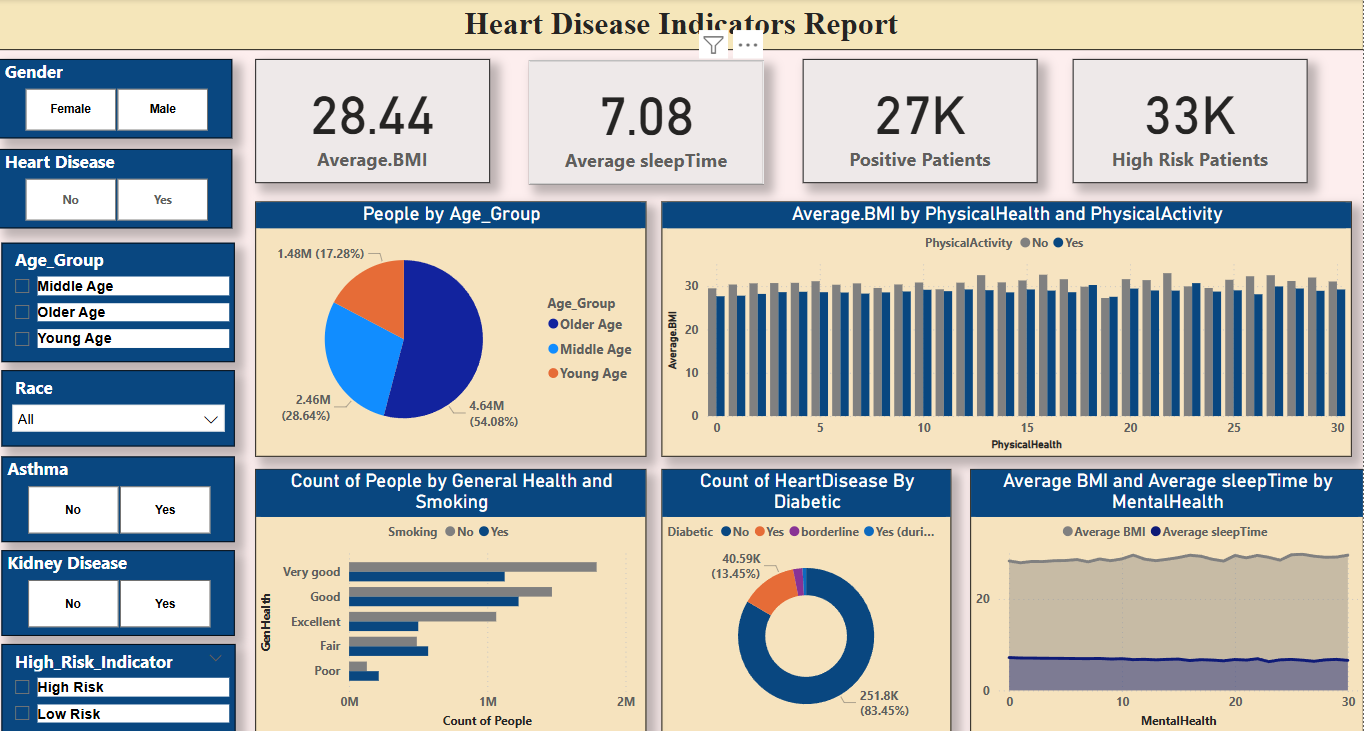

The page's visual inventory and layout, read from the dashboard file:
{"tool":"powerbi","page":{"name":"Page 1","canvas":[1390,760],"ordinal":0},"visuals":[{"type":"textbox","box":[0,0,1390.6,52.2],"z":0},{"type":"slicer","title":"Gender","fields":{"Values":["heart_disease.Sex"]},"box":[0,61.5,237.7,80.8],"z":1000},{"type":"slicer","title":"Heart Disease","fields":{"Values":["heart_disease.HeartDisease"]},"box":[0,153.2,237.7,80.8],"z":2000},{"type":"slicer","fields":{"Values":["heart_disease.Age_Group"]},"box":[2.4,248.5,237.7,121.9],"z":3000},{"type":"slicer","fields":{"Values":["heart_disease.Race"]},"box":[2.4,378.8,237.7,77.2],"z":4000},{"type":"slicer","title":"Asthma","fields":{"Values":["heart_disease.Asthma"]},"box":[2.4,465.7,237.7,86.9],"z":5000},{"type":"slicer","title":"Kidney Disease","fields":{"Values":["heart_disease.KidneyDisease"]},"box":[2.4,562.2,237.7,86.9],"z":6000},{"type":"slicer","fields":{"Values":["heart_disease.High_Risk_Indicator"]},"box":[2.5,657.1,238.1,91.7],"z":7000},{"type":"card","fields":{"Values":["heart_disease.Avg.BMI"]},"box":[261.1,61.1,239.4,126.1],"z":8000},{"type":"card","fields":{"Values":["heart_disease.Avg_sleepTime"]},"box":[539.9,62.4,239.4,126.1],"z":9000},{"type":"card","fields":{"Values":["heart_disease.Patient_suffringheartdisease"]},"box":[818.8,61.1,239.4,126.1],"z":10000},{"type":"card","fields":{"Values":["heart_disease.No_of_peoplein Highrisk"]},"box":[1093.9,61.1,239.4,126.1],"z":11000},{"type":"pieChart","title":"People by Age_Group","fields":{"Category":["heart_disease.Age_Group"],"Y":["Sum(heart_disease.BMI)"]},"box":[261.1,206.3,398.6,259.8],"z":12000},{"type":"clusteredBarChart","title":"Count of People by General Health and Smoking","fields":{"Category":["heart_disease.GenHealth"],"Y":["Sum(heart_disease.BMI)"],"Series":["heart_disease.Smoking"]},"box":[261.1,478.8,398.6,270],"z":13000},{"type":"clusteredColumnChart","fields":{"Category":["heart_disease.PhysicalHealth"],"Series":["heart_disease.PhysicalActivity"],"Y":["heart_disease.Avg.BMI"]},"box":[674.9,206.3,703,259.8],"z":14000},{"type":"donutChart","title":"Count of HeartDisease By Diabetic","fields":{"Category":["heart_disease.Diabetic"],"Y":["CountNonNull(heart_disease.HeartDisease)"]},"box":[674.9,478.8,295.4,270],"z":15000},{"type":"areaChart","fields":{"Category":["heart_disease.MentalHealth"],"Y":["heart_disease.Avg.BMI","heart_disease.Avg_sleepTime"]},"box":[989.5,478.8,401.1,270],"z":16000}]}

Visuals, with their boxes in screenshot pixels (x1, y1, x2, y2), scaled from the page's 1390x760 canvas onto the 1364x731 screenshot:
textbox: [left=0, top=0, right=1363, bottom=50]
"Gender" slicer: [left=0, top=59, right=233, bottom=137]
"Heart Disease" slicer: [left=0, top=147, right=233, bottom=225]
slicer - heart_disease.Age_Group: [left=2, top=239, right=236, bottom=356]
slicer - heart_disease.Race: [left=2, top=364, right=236, bottom=439]
"Asthma" slicer: [left=2, top=448, right=236, bottom=532]
"Kidney Disease" slicer: [left=2, top=541, right=236, bottom=624]
slicer - heart_disease.High_Risk_Indicator: [left=2, top=632, right=236, bottom=720]
card - heart_disease.Avg.BMI: [left=256, top=59, right=491, bottom=180]
card - heart_disease.Avg_sleepTime: [left=530, top=60, right=765, bottom=181]
card - heart_disease.Patient_suffringheartdisease: [left=803, top=59, right=1038, bottom=180]
card - heart_disease.No_of_peoplein Highrisk: [left=1073, top=59, right=1308, bottom=180]
"People by Age_Group" pieChart: [left=256, top=198, right=647, bottom=448]
"Count of People by General Health and Smoking" clusteredBarChart: [left=256, top=461, right=647, bottom=720]
clusteredColumnChart - heart_disease.PhysicalHealth x heart_disease.PhysicalActivity: [left=662, top=198, right=1352, bottom=448]
"Count of HeartDisease By Diabetic" donutChart: [left=662, top=461, right=952, bottom=720]
areaChart - heart_disease.MentalHealth x heart_disease.Avg.BMI: [left=971, top=461, right=1363, bottom=720]
